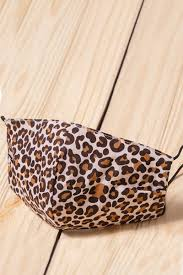cloth_mask: (2, 115, 183, 235)
